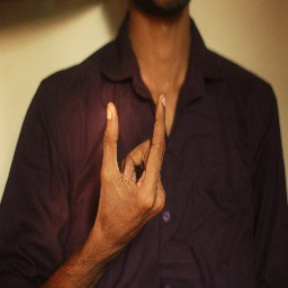U: (88, 90, 173, 228)
